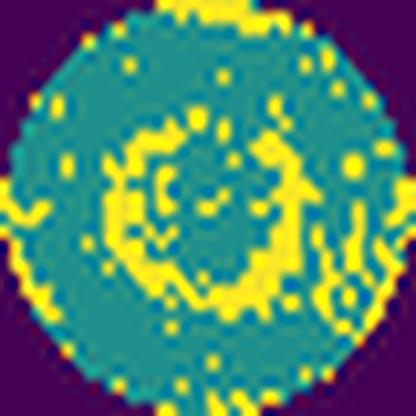Donut: (86, 92, 328, 332)
